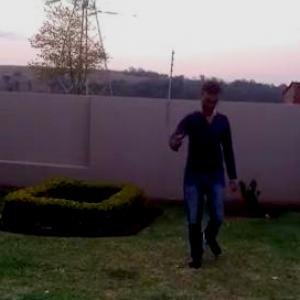takeoff-hand: (164, 118, 190, 154)
